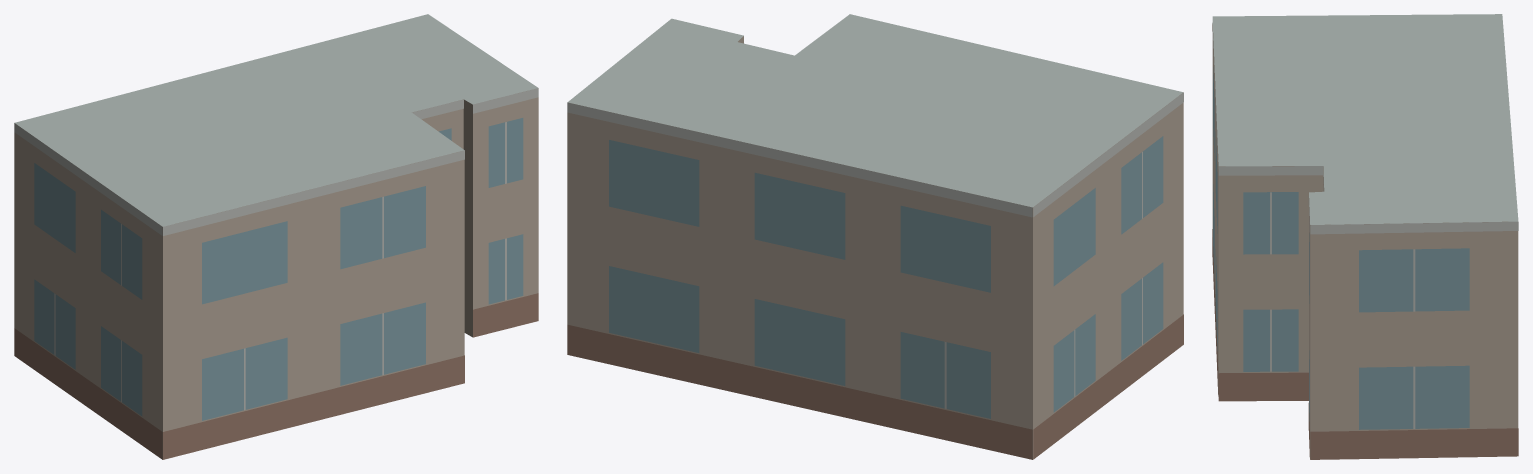
The model's file is survey-upis-32651611.glb.
The picture shows the model from 3 angles, left to right: view 1: azimuth 30°, elevation 25°; view 2: azimuth 150°, elevation 25°; view 3: azimuth 270°, elevation 25°; orthographic projection. The views are drawn at different scales.
Parts seen in each view (by area): view 1: survey-upis-32651611.tmp; view 2: survey-upis-32651611.tmp; view 3: survey-upis-32651611.tmp.
Boxes of the visible parts, x1,y1,x2,y2 form: survey-upis-32651611.tmp: (14, 14, 538, 459); survey-upis-32651611.tmp: (567, 14, 1183, 459); survey-upis-32651611.tmp: (1212, 14, 1518, 459).
Size of the model in its own units: 11.77 by 6.1 by 7.22.
